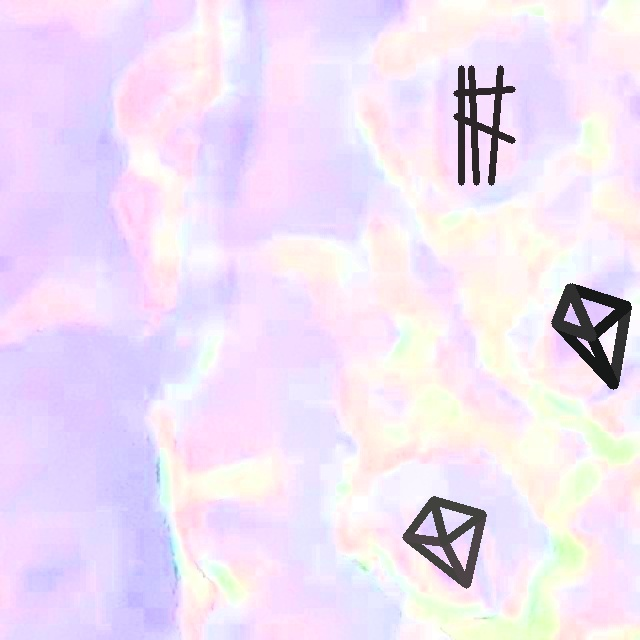close: (551, 284, 631, 388), (453, 65, 514, 185)
open: (403, 497, 485, 588)
